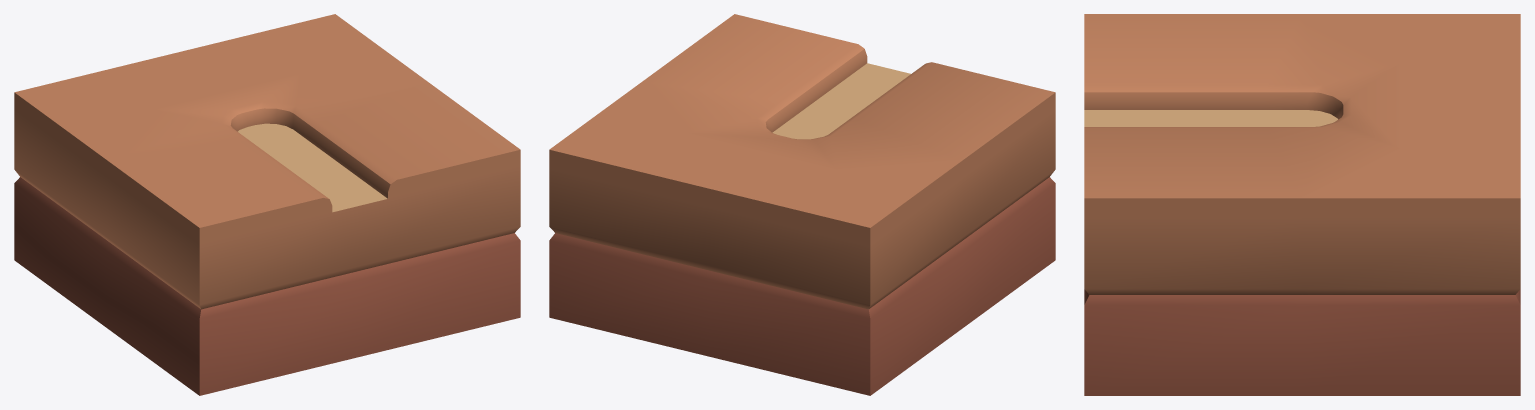
File: square_rock_roadA_detail.glb
3 views of the same model, side by side, from view 1: azimuth 30°, elevation 25°; view 2: azimuth 150°, elevation 25°; view 3: azimuth 270°, elevation 25° (orthographic). The views are drawn at different scales.
Parts seen in each view (by area): view 1: square_rock_roadA_detail; view 2: square_rock_roadA_detail; view 3: square_rock_roadA_detail.
Part boxes in pixels (x1,y1,x2,y2): square_rock_roadA_detail: [14, 14, 520, 395]; square_rock_roadA_detail: [549, 14, 1055, 395]; square_rock_roadA_detail: [1084, 14, 1520, 395].
Bounding box in the file's own units: 2 × 1 × 2.
